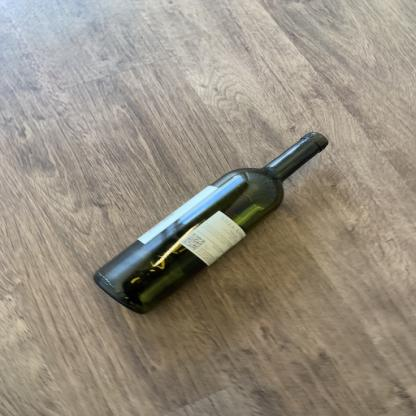trash: (87, 130, 329, 316)
